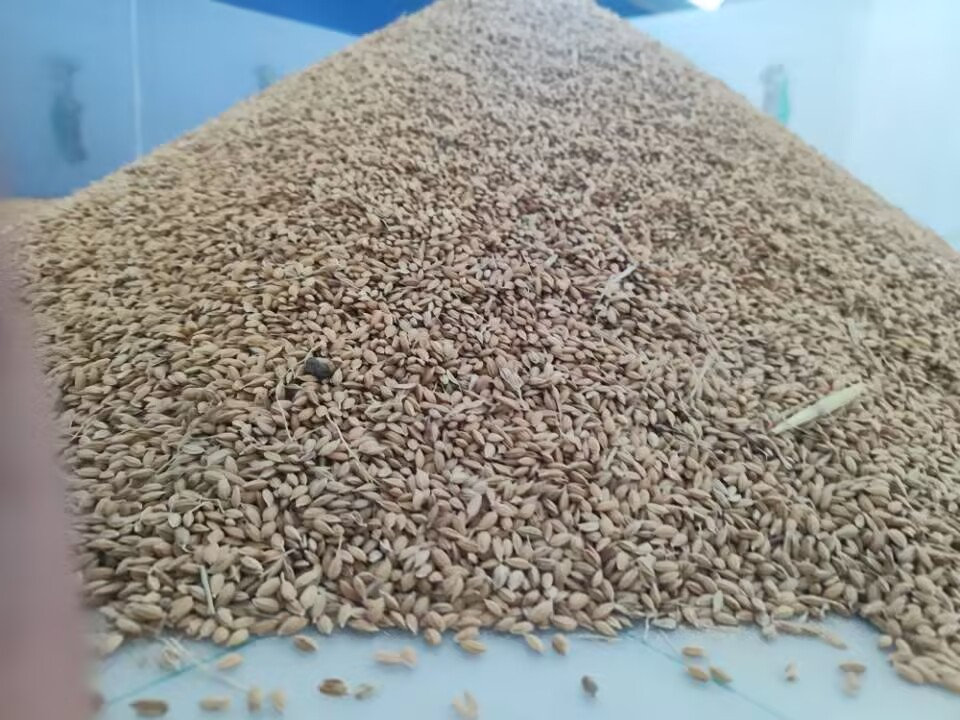Grain: (125, 5, 954, 616)
